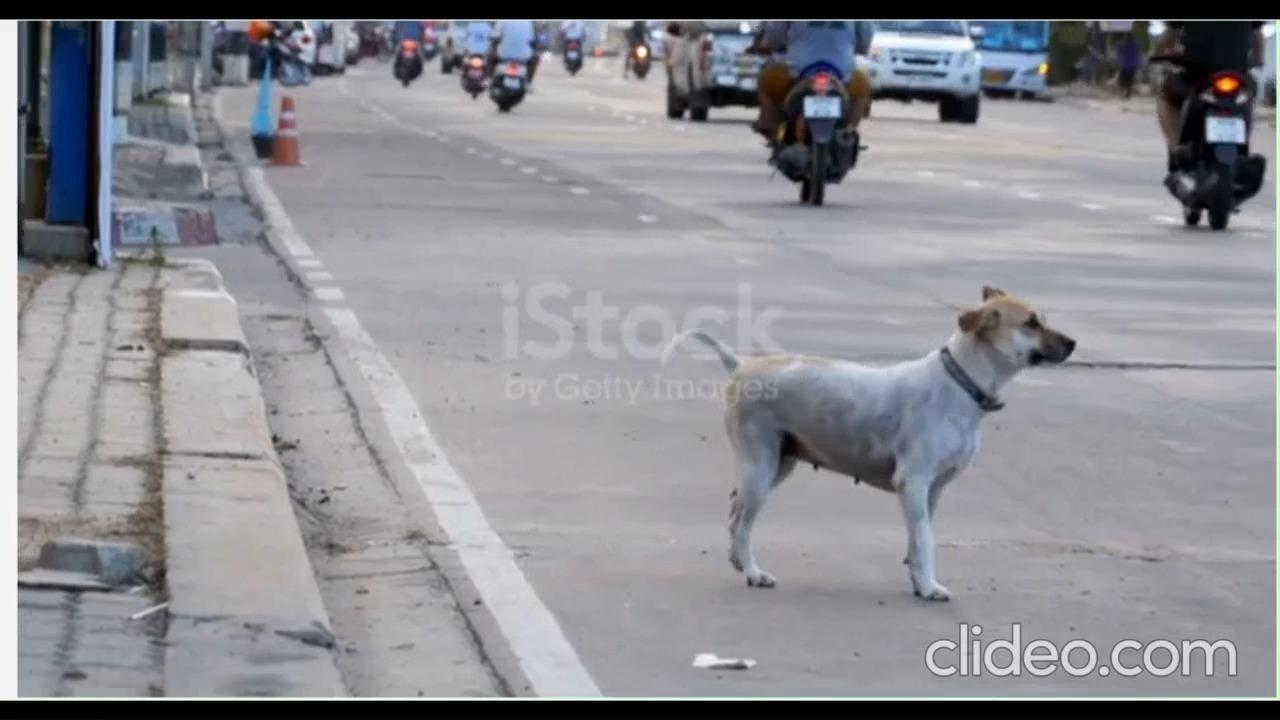dog: (672, 288, 1078, 610)
